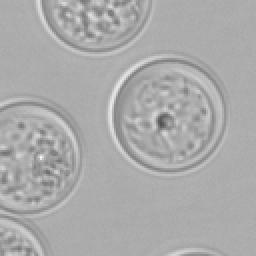picoshell: (108, 56, 226, 172), (0, 100, 78, 216), (36, 0, 152, 56), (0, 212, 50, 254), (164, 246, 222, 254)
